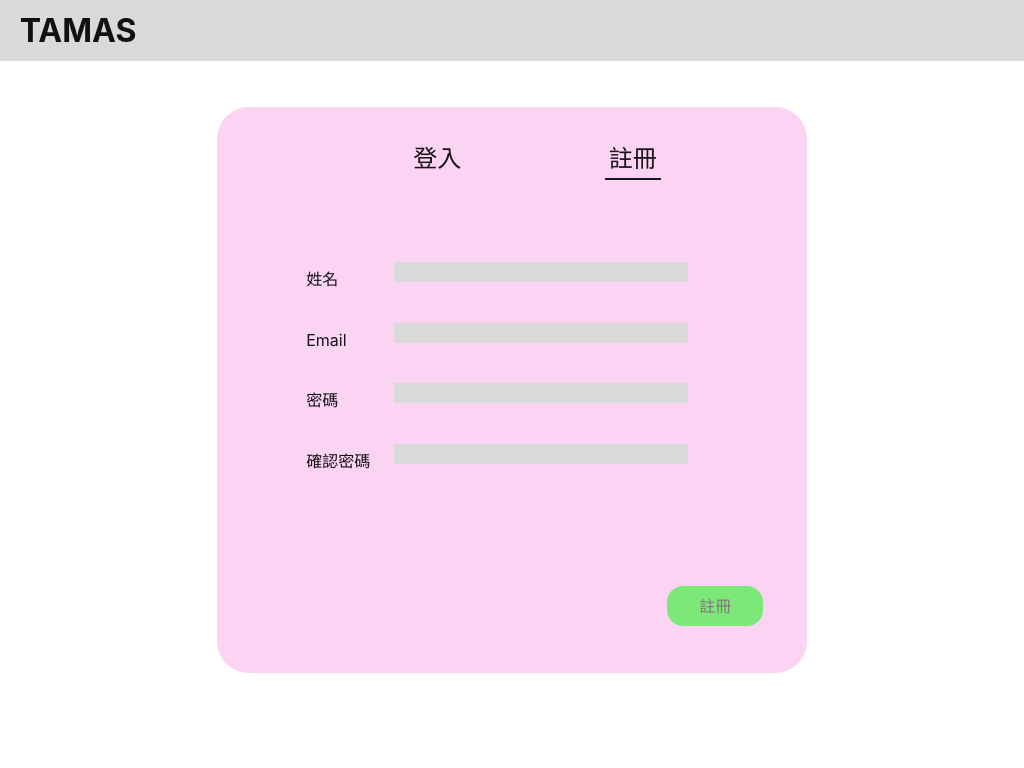
HomePage registration flow › starts with an empty register form and enables submit only for valid values
Expected: the field labelled "Email" is empty, top-left (394, 322), bottom-right (688, 342)
Expected: the 2nd button "註冊" is disabled, top-left (668, 586), bottom-right (763, 626)
Type "user123" into the field labelled "姓名".
click(541, 272); type("user123")  # box top-left (394, 262), bottom-right (688, 282)
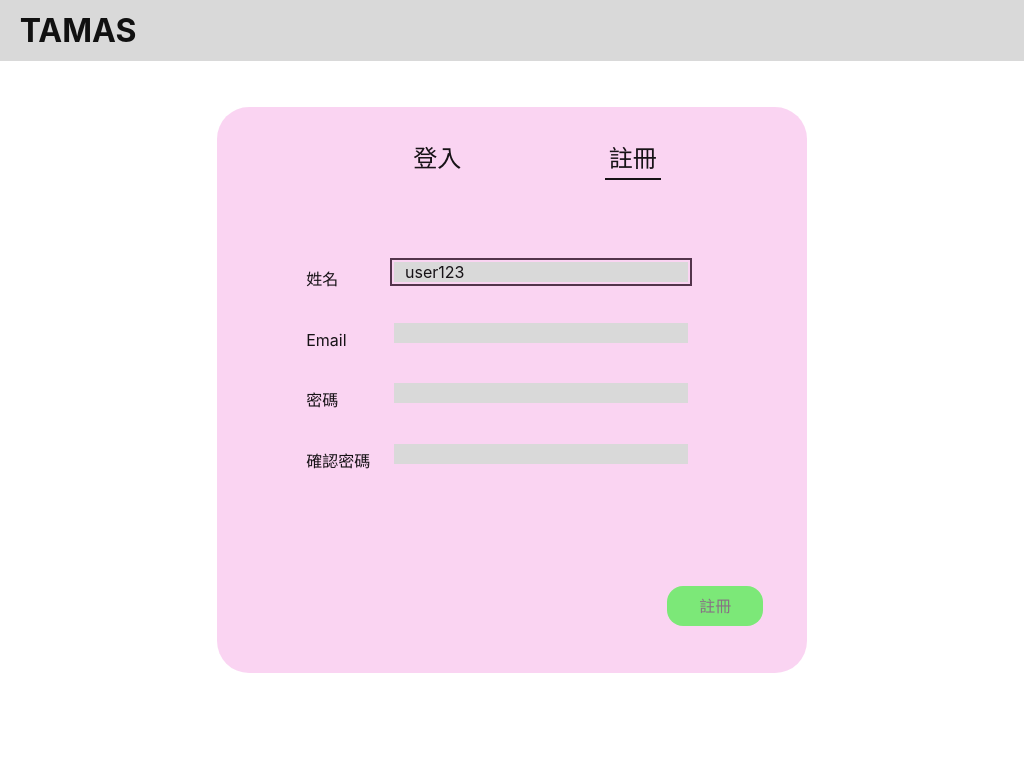
Type "user@example.com" into the field labelled "Email".
click(541, 332); type("user@example.com")  # box top-left (394, 322), bottom-right (688, 342)
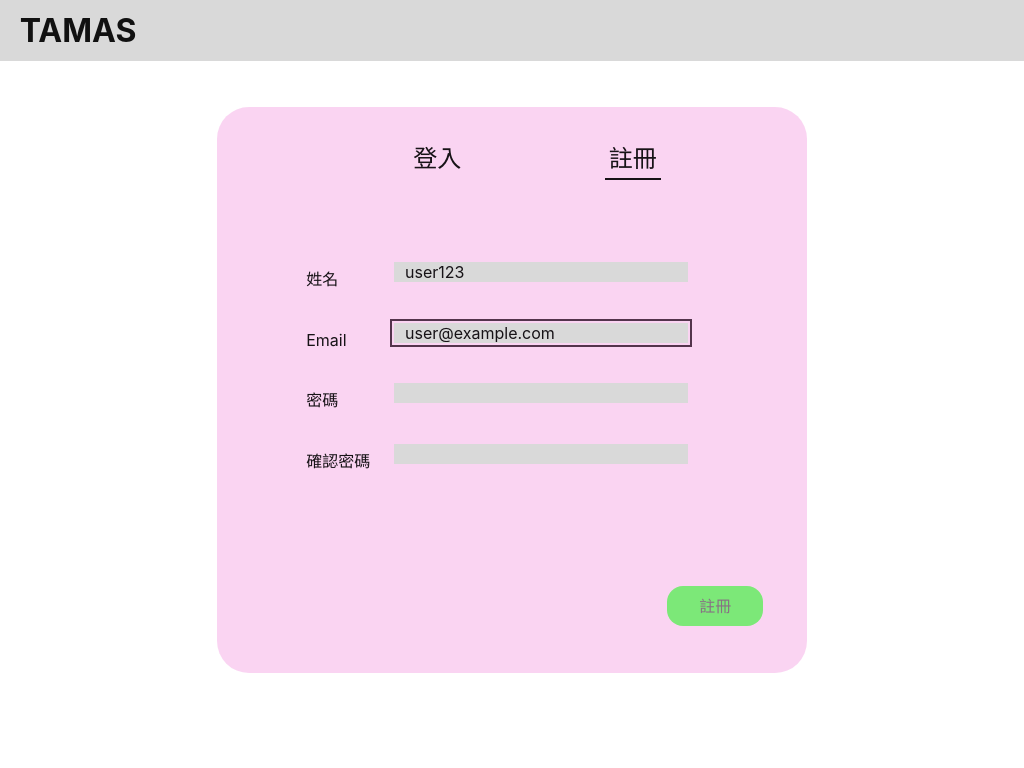
Type "ValidPass123" into the password field labelled "密碼".
click(541, 393); type("ValidPass123")  # box top-left (394, 383), bottom-right (688, 403)
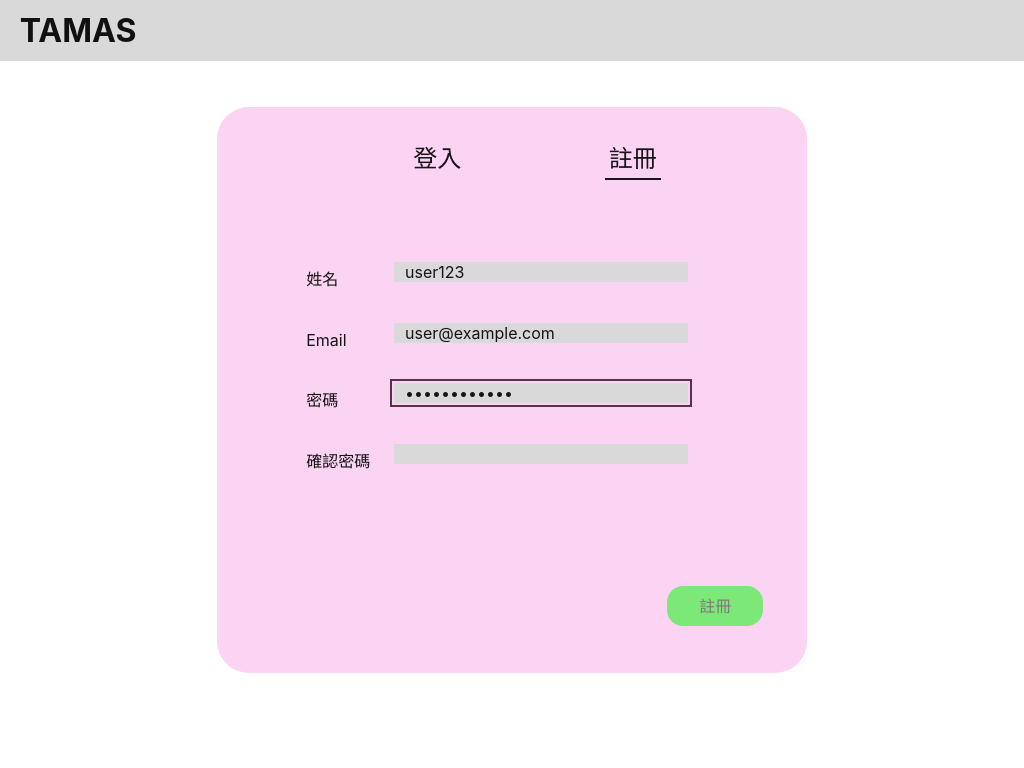
Type "ValidPass123" into the password field labelled "確認密碼".
click(541, 454); type("ValidPass123")  # box top-left (394, 444), bottom-right (688, 464)
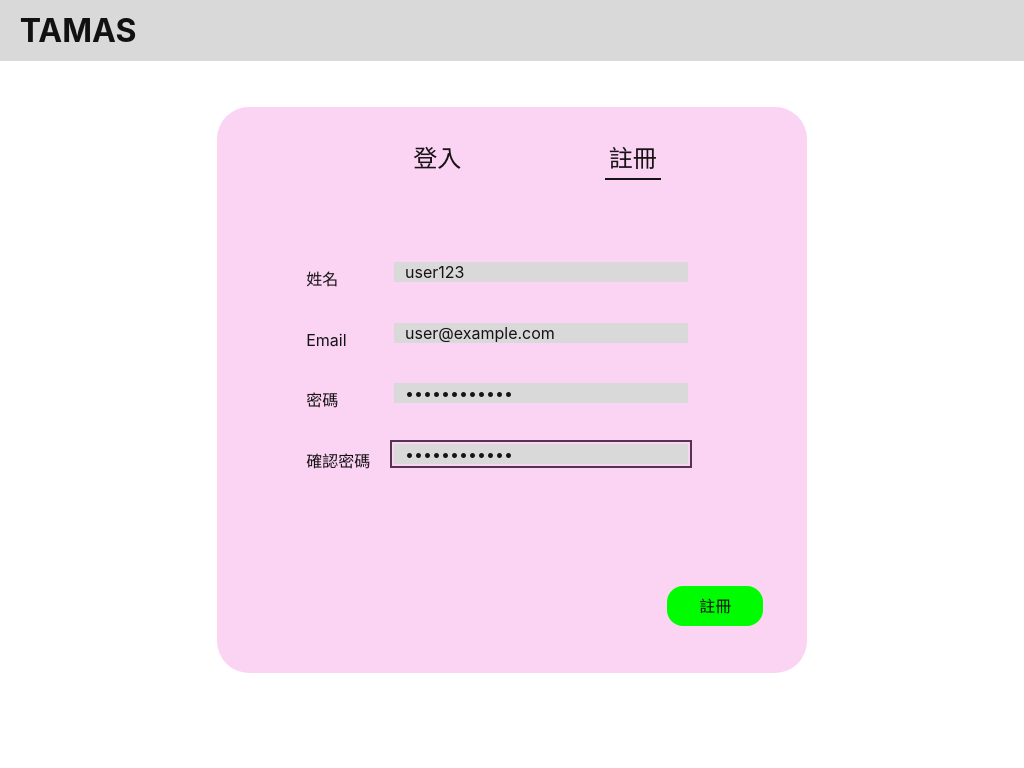
Expected: the 2nd button "註冊" is enabled, top-left (668, 586), bottom-right (763, 626)
Clear the password field labelled "密碼" at (541, 393), box top-left (394, 383), bottom-right (688, 403)
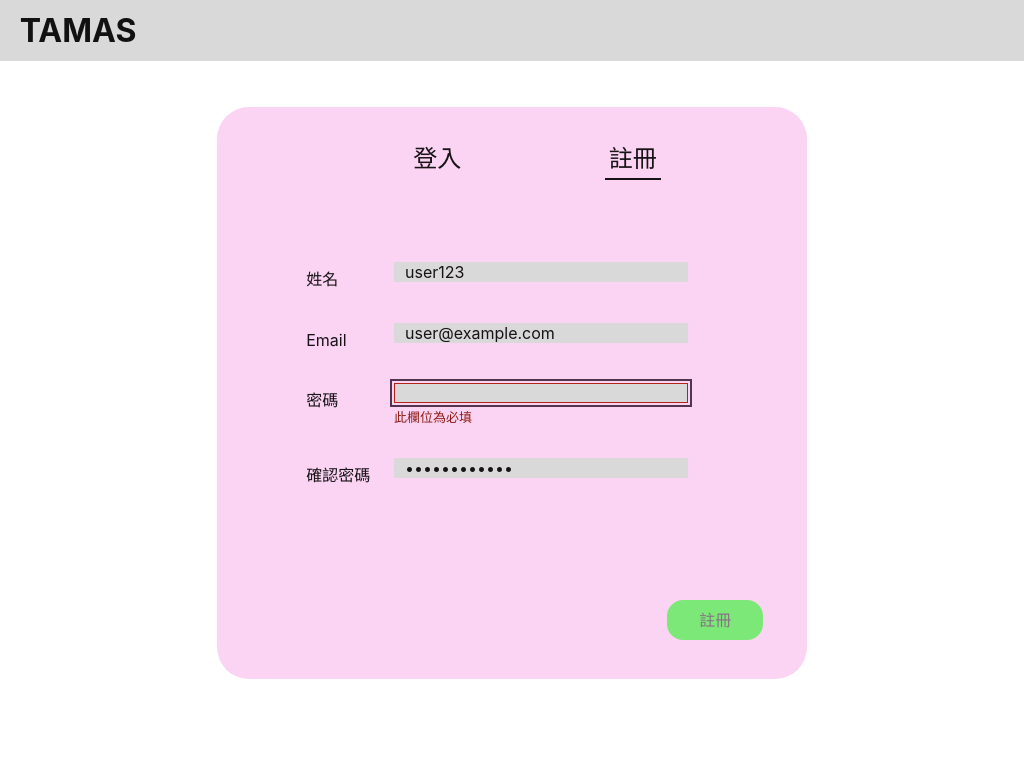
Expected: the button "註冊" below "此欄位為必填" is disabled, top-left (668, 600), bottom-right (763, 640)
